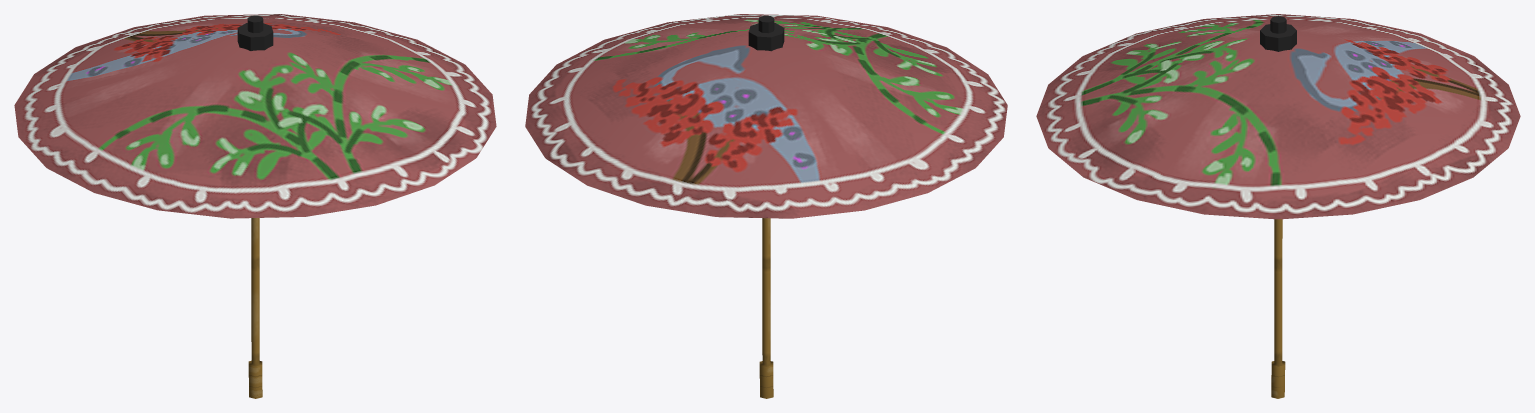
The model's file is umbrella_B.fbx.
3 renders of one model, left to right at view 1: azimuth 30°, elevation 25°; view 2: azimuth 150°, elevation 25°; view 3: azimuth 270°, elevation 25°, orthographic.
Parts seen in each view (by area): view 1: umbrella; view 2: umbrella; view 3: umbrella.
Boxes of the visible parts, <box> form: umbrella: <box>14,14,496,398</box>; umbrella: <box>525,14,1007,398</box>; umbrella: <box>1036,14,1520,398</box>.
Size of the model in its own units: 2.48 by 2.13 by 2.48.
1 material, 1 textured.
